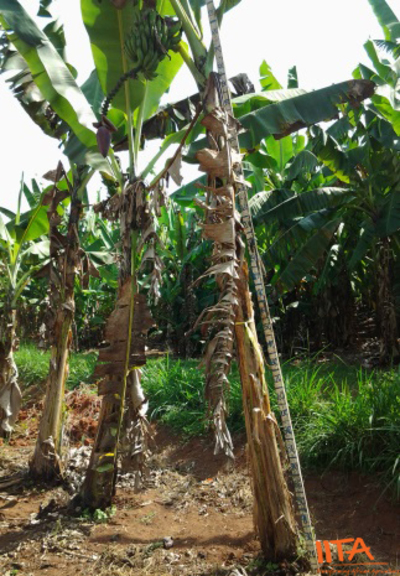bananaHand: (124, 2, 185, 82)
